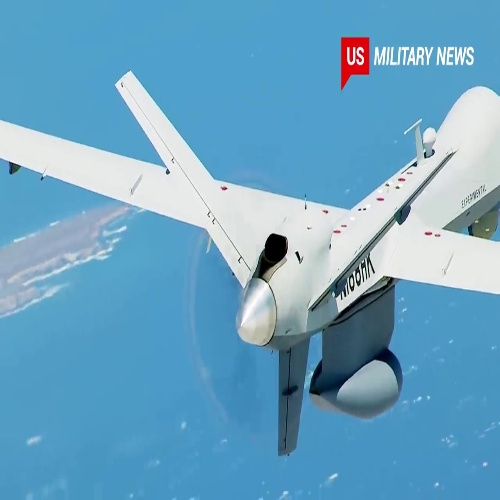uav: (2, 72, 500, 454)
